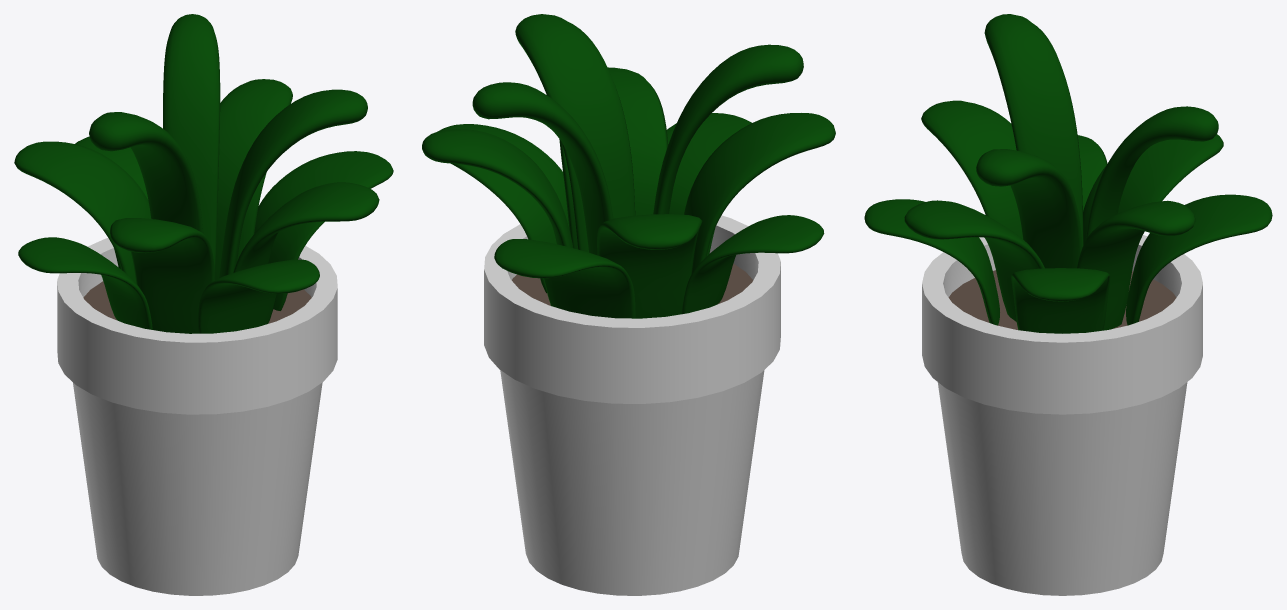
File: Plante2_2.fbx
The picture shows the model from 3 angles, left to right: view 1: azimuth 30°, elevation 25°; view 2: azimuth 150°, elevation 25°; view 3: azimuth 270°, elevation 25°; orthographic projection. The views are drawn at different scales.
Visible parts, largest first — view 1: pCylinder730, pCube1938, pCube1935, pCube1929, pCube1937, pCube1939, pCube1931, pCube1934, pCube1933, pCube1930, pCube1936, pCylinder731 (+1 smaller); view 2: pCylinder730, pCube1937, pCube1935, pCube1929, pCube1932, pCube1939, pCube1938, pCube1930, pCube1931, pCube1936, pCube1933, pCube1934 (+1 smaller); view 3: pCylinder730, pCube1939, pCube1937, pCube1933, pCube1935, pCube1932, pCube1931, pCube1930, pCube1938, pCube1929, pCube1934, pCylinder731 (+1 smaller).
Boxes of the visible parts, x1,y1,x2,y2 form: pCylinder730: (57,238,337,595); pCube1938: (163,14,220,278); pCube1935: (110,218,214,333); pCube1929: (14,141,151,282); pCube1937: (219,89,367,277); pCube1939: (89,112,203,233); pCube1931: (215,79,292,280); pCube1934: (198,259,319,333); pCube1933: (254,151,393,310); pCube1930: (233,182,379,272); pCube1936: (18,237,152,329); pCylinder731: (83,281,311,323); pCylinder730: (484,215,780,595); pCube1937: (515,14,635,252); pCube1935: (684,113,835,274); pCube1929: (597,214,702,318); pCube1932: (494,239,635,318); pCube1939: (653,44,803,214); pCube1938: (472,82,613,254); pCube1930: (559,67,668,249); pCube1931: (422,129,573,247); pCube1936: (681,215,824,314); pCube1933: (438,124,569,293); pCube1934: (666,113,751,256); pCylinder730: (922,235,1202,595); pCube1939: (984,14,1083,246); pCube1937: (976,149,1082,268); pCube1933: (1011,268,1110,333); pCube1935: (921,100,1022,238); pCube1932: (1126,194,1272,325); pCube1931: (1077,200,1195,330); pCube1930: (904,200,1044,321); pCube1938: (1085,106,1218,240); pCube1929: (1083,134,1223,244); pCube1934: (864,199,999,325); pCylinder731: (948,270,1176,329).
Size of the model in its own units: 16.65 by 21.16 by 16.27.
